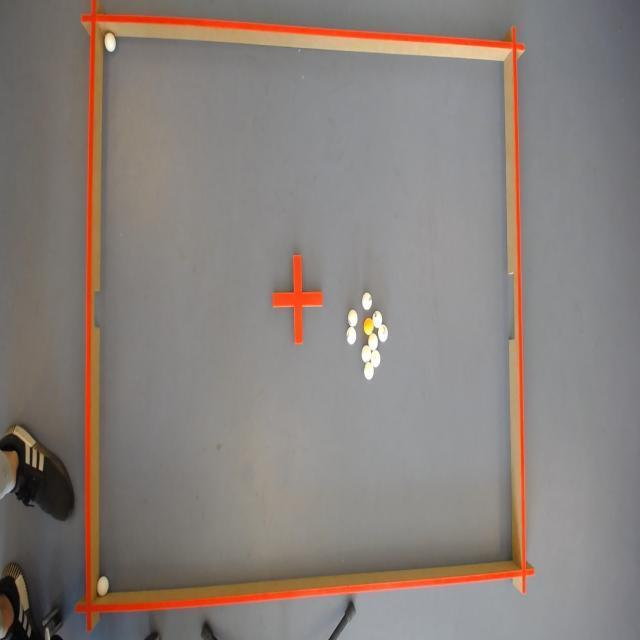orange: (363, 316, 375, 336)
white: (95, 576, 108, 596), (102, 34, 114, 52), (361, 291, 372, 310), (345, 326, 355, 346), (346, 307, 356, 326), (366, 362, 376, 380), (372, 308, 382, 326), (378, 326, 390, 340), (362, 344, 371, 362), (368, 334, 378, 349), (372, 352, 381, 366)
